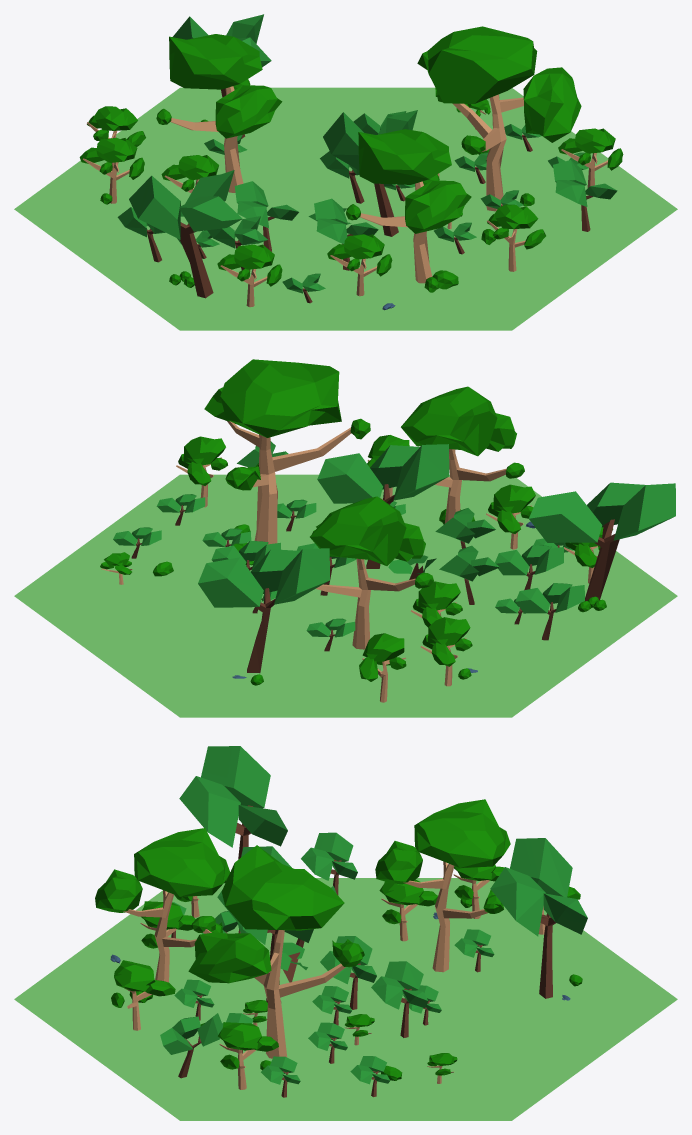
File: Hexagone ressource bois.fbx
3 renders of one model, top to bottom at view 1: azimuth 30°, elevation 25°; view 2: azimuth 150°, elevation 25°; view 3: azimuth 270°, elevation 25°, orthographic.
Parts seen in each view (by area): view 1: Cylinder; view 2: Cylinder; view 3: Cylinder.
Part boxes in pixels (x1=…): Cylinder: x1=14, y1=14, x2=677, y2=330; Cylinder: x1=14, y1=359, x2=677, y2=717; Cylinder: x1=14, y1=746, x2=677, y2=1120.
Bounding box in the file's own units: 1801 × 616 × 2000.
